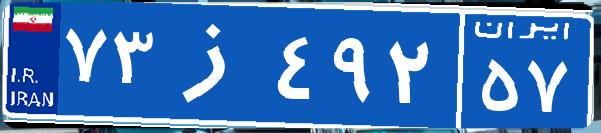2: (385, 28, 445, 110)
3: (110, 28, 158, 105)
4: (273, 28, 330, 110)
5: (475, 38, 525, 113)
7: (57, 26, 110, 107), (525, 38, 570, 115)
9: (330, 28, 385, 110)
ز: (158, 15, 273, 115)
